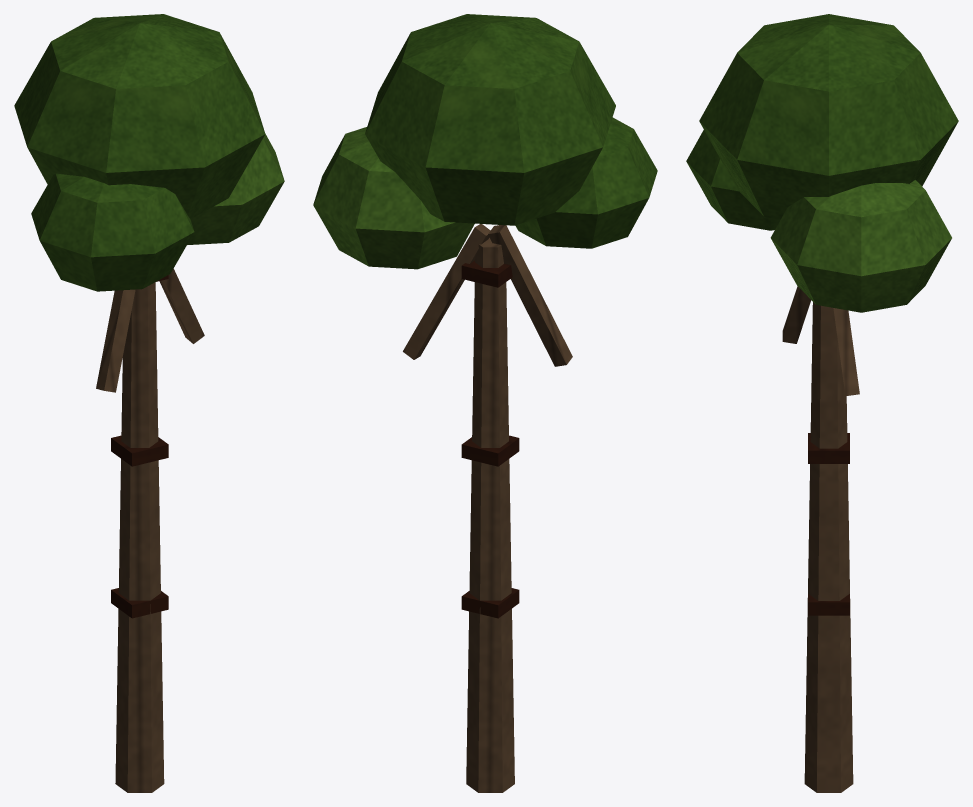
File: birch.gltf
3 views of the same model, side by side, from view 1: azimuth 30°, elevation 25°; view 2: azimuth 150°, elevation 25°; view 3: azimuth 270°, elevation 25° (orthographic).
Parts seen in each view (by area): view 1: Birch; view 2: Birch; view 3: Birch.
Part boxes in pixels (box(x1,y1,x2,y2)): Birch: box(14, 14, 284, 792); Birch: box(313, 14, 657, 792); Birch: box(686, 14, 958, 792).
Size of the model in its own units: 1 by 2.58 by 0.84.
4 materials, 4 textured.
